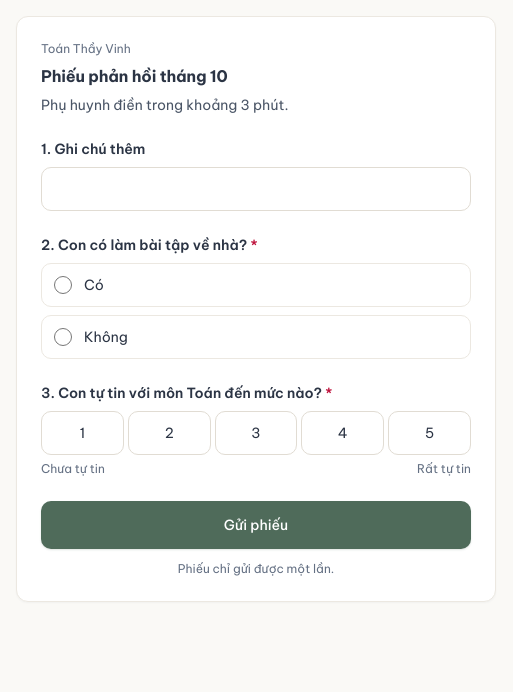
Test case: PublicCoachingForm required checks › clears a question's error as soon as it is answered
Click the button "Gửi phiếu".
click(256, 525)  # box [41,501,471,549]
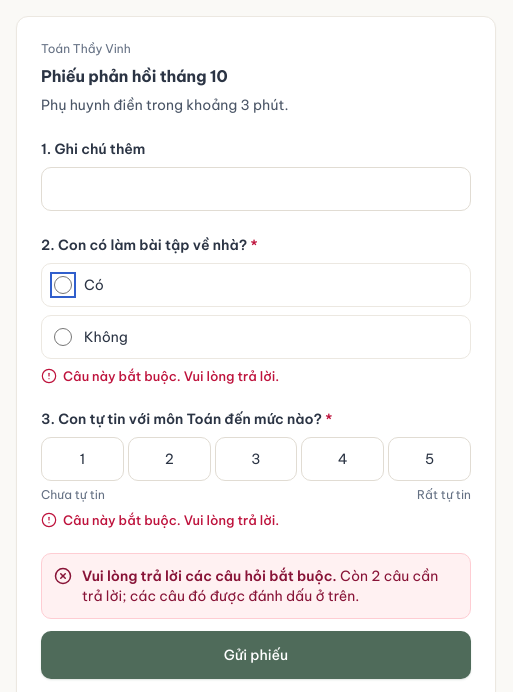
Click the radio button labelled "Có".
click(63, 285)  # box [54,276,72,294]
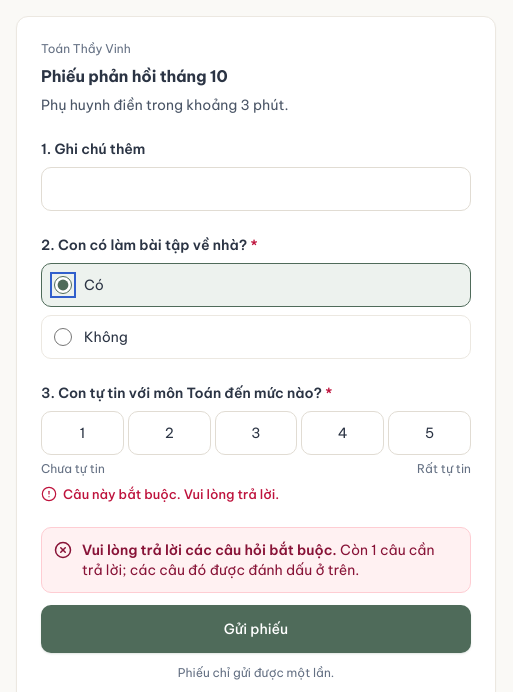
Check: the message shows "Còn 1 câu cần trả lời", box [82,541,434,579]
Click the button "4".
click(343, 433)  # box [301,411,384,455]
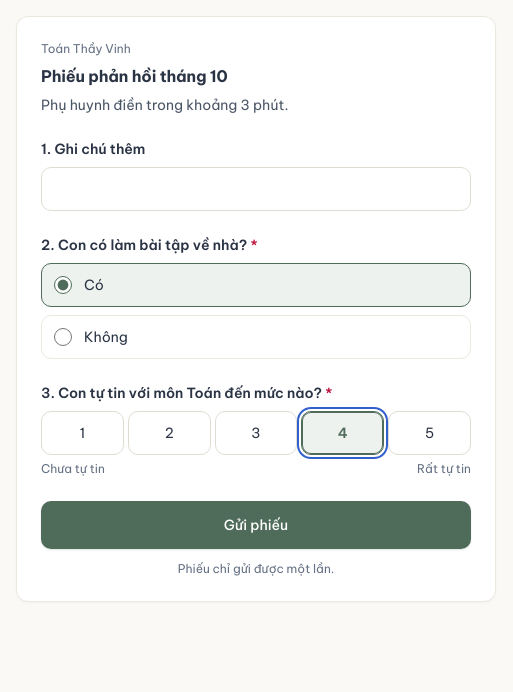
Check: the text "Câu này bắt buộc. Vui lòng trả lời." is gone
Check: the message is gone
